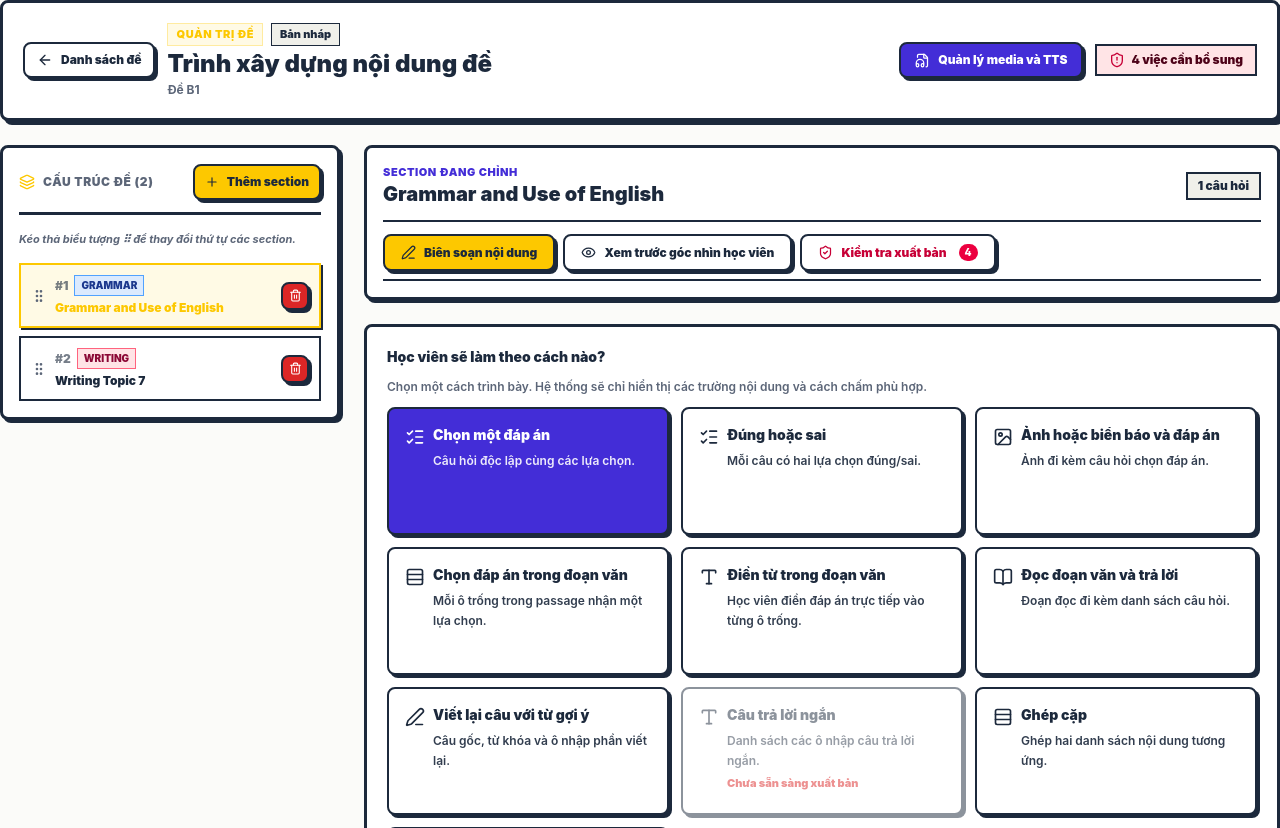
Scenario: AdminB1ExamContentBuilderPage › shows a publish checklist with actionable missing-content issues when clicking Tab 3
The image size is (1280, 828).
Expected: the heading "Trình xây dựng nội dung đề" is shown, [168,48,492,80]
Click the button "Kiểm tra xuất bản 4" at (898, 253), box [800,234,996,271]
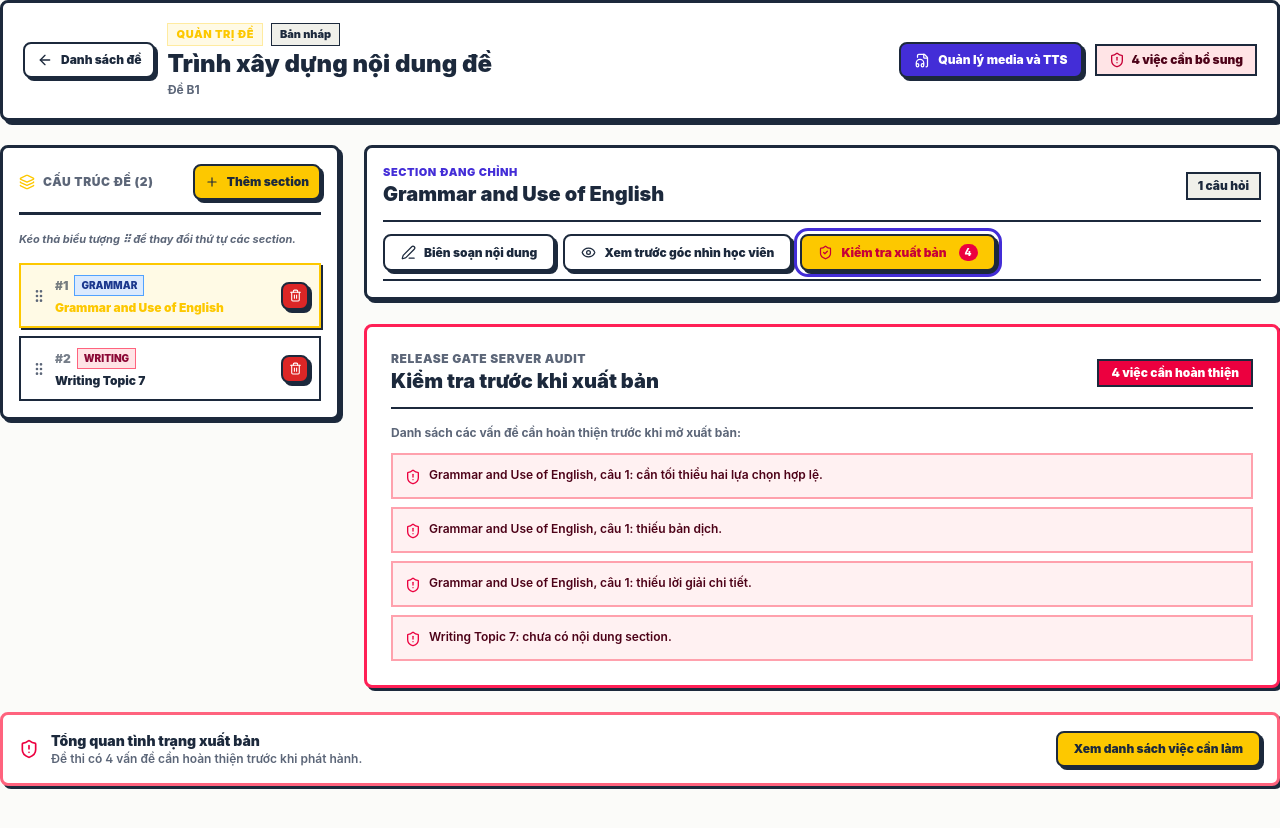
Now the heading "Kiểm tra trước khi xuất bản" is shown, box [391,367,659,395]
Now the text "Grammar and Use of English, câu 1: thiếu bản dịch." is shown, box [429,521,722,537]
